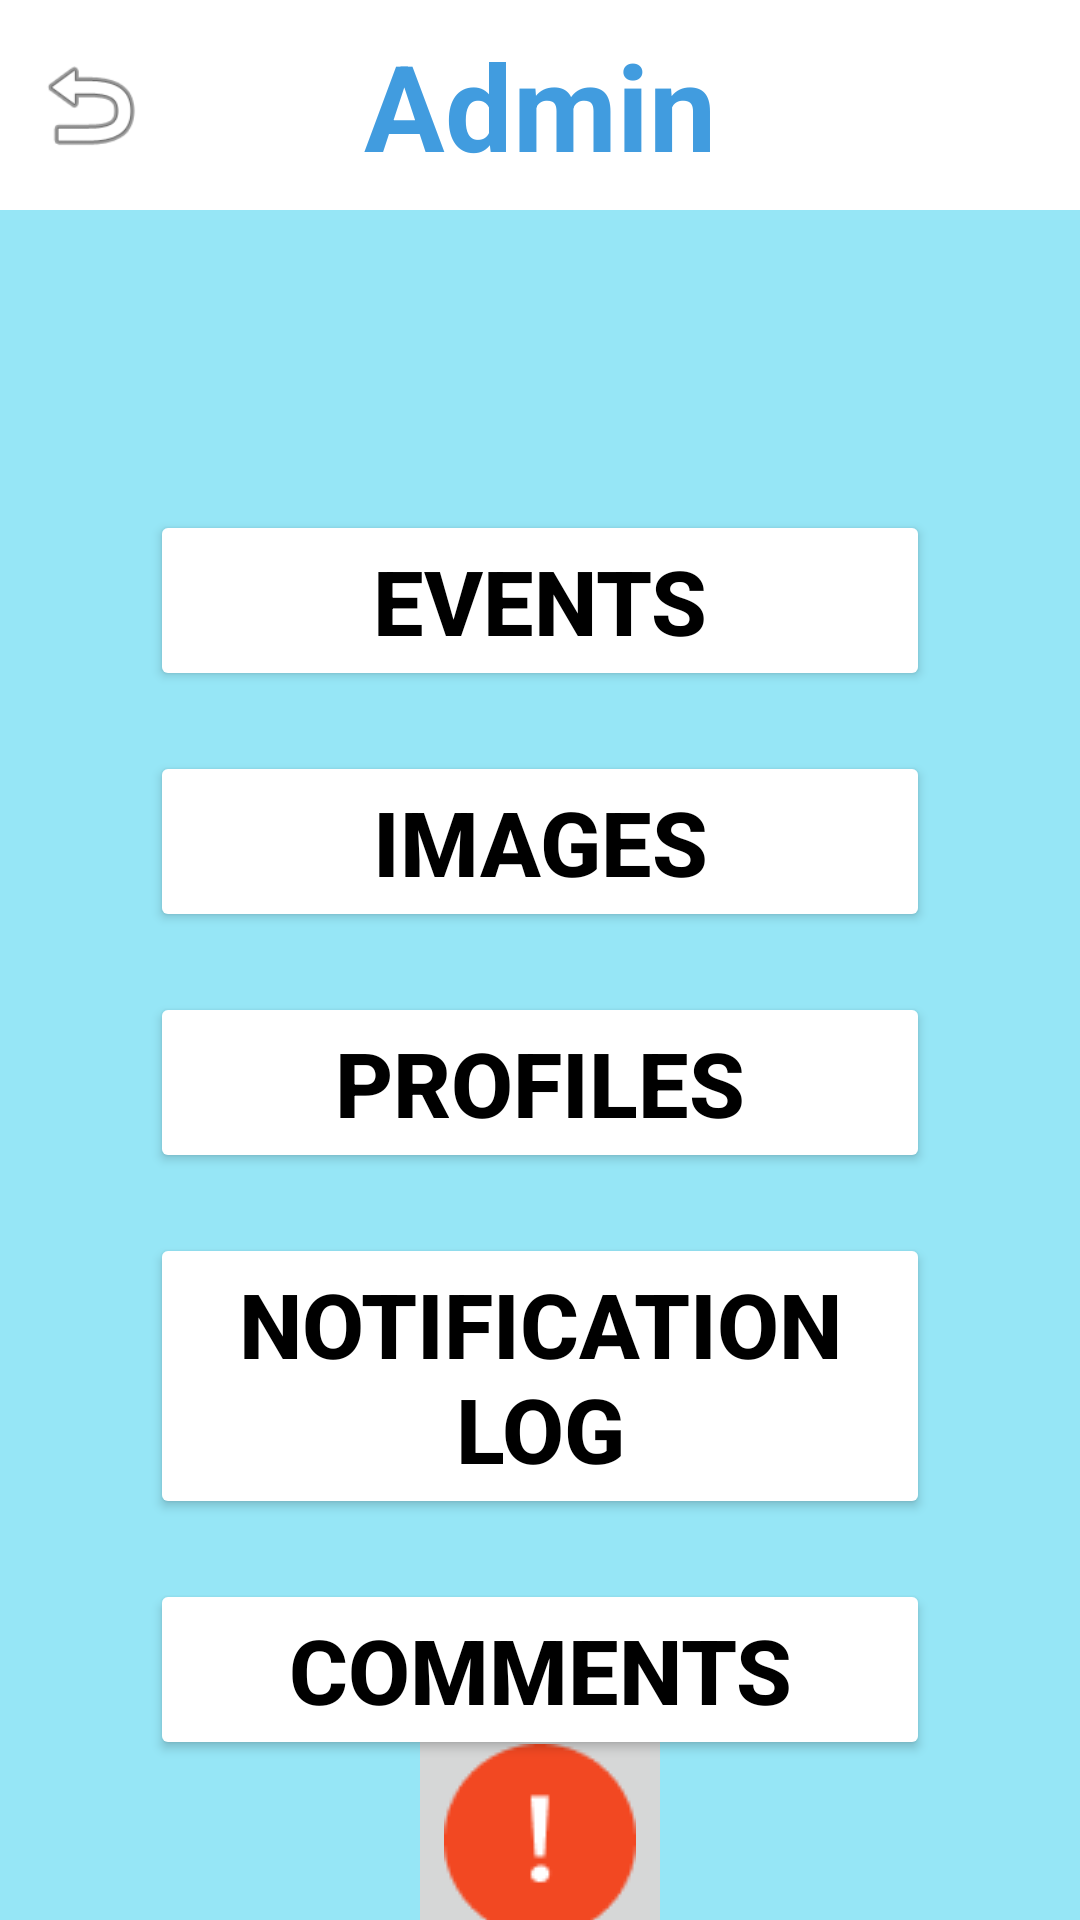

Icons on this 1080px x 1920px Android screen, each with the point to tap as [x,y]:
revert: [91,105]
